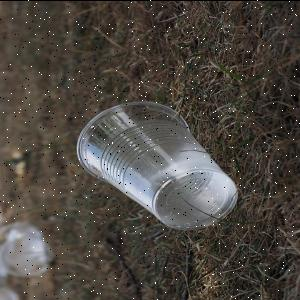Cup: (76, 98, 242, 232)
